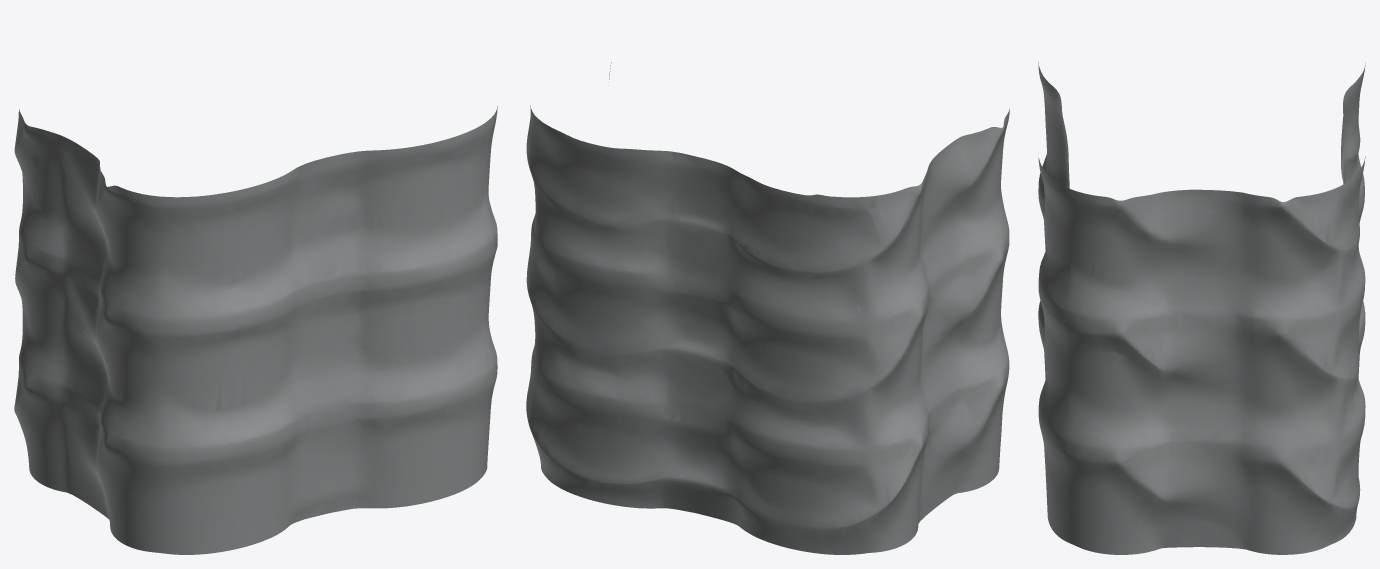
The model's file is SM_WM00222-Round_Container_wraped_Plastic.glb.
The picture shows the model from 3 angles, left to right: view 1: azimuth 30°, elevation 25°; view 2: azimuth 150°, elevation 25°; view 3: azimuth 270°, elevation 25°; orthographic projection.
Visible parts, largest first — view 1: SM_WM00222-Round_Container_wraped_Plastic; view 2: SM_WM00222-Round_Container_wraped_Plastic; view 3: SM_WM00222-Round_Container_wraped_Plastic.
Boxes of the visible parts, x1,y1,x2,y2 form: SM_WM00222-Round_Container_wraped_Plastic: (14,106,497,554); SM_WM00222-Round_Container_wraped_Plastic: (526,62,1009,554); SM_WM00222-Round_Container_wraped_Plastic: (1038,62,1365,554).
Size of the model in its own units: 1.12 by 1.01 by 0.8237.
1 material, 1 textured.
